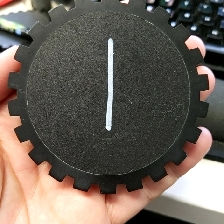gear: (6, 1, 211, 195)
